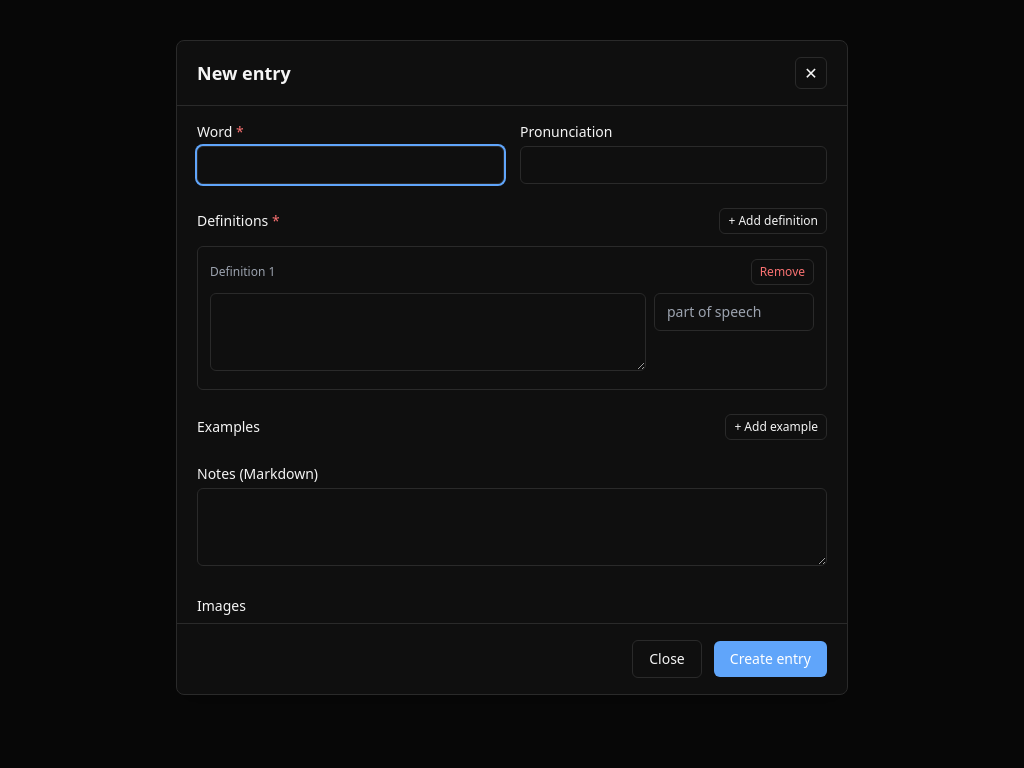
Scenario: EntryEditor › shows the duplicate message on a 409 response
Type "provoke" into the field labelled "Word *" at (350, 165), box 197,146 -> 504,184
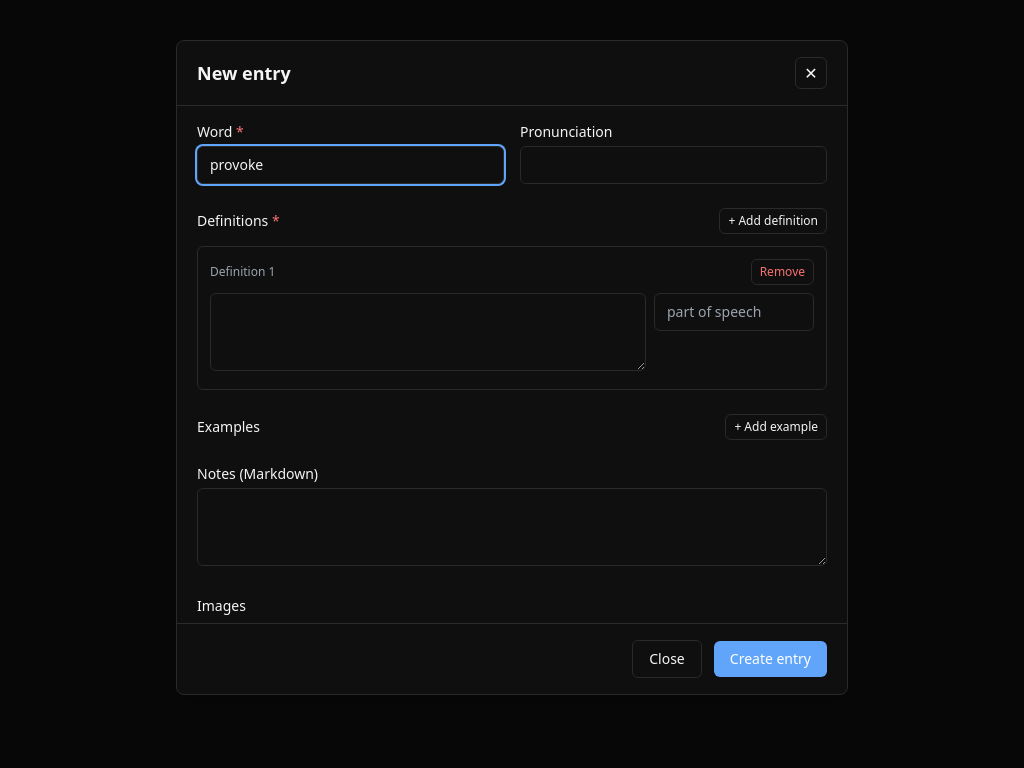
Type "to incite" into the text box named "definition 1 text" at (428, 332), box 210,293 -> 646,371
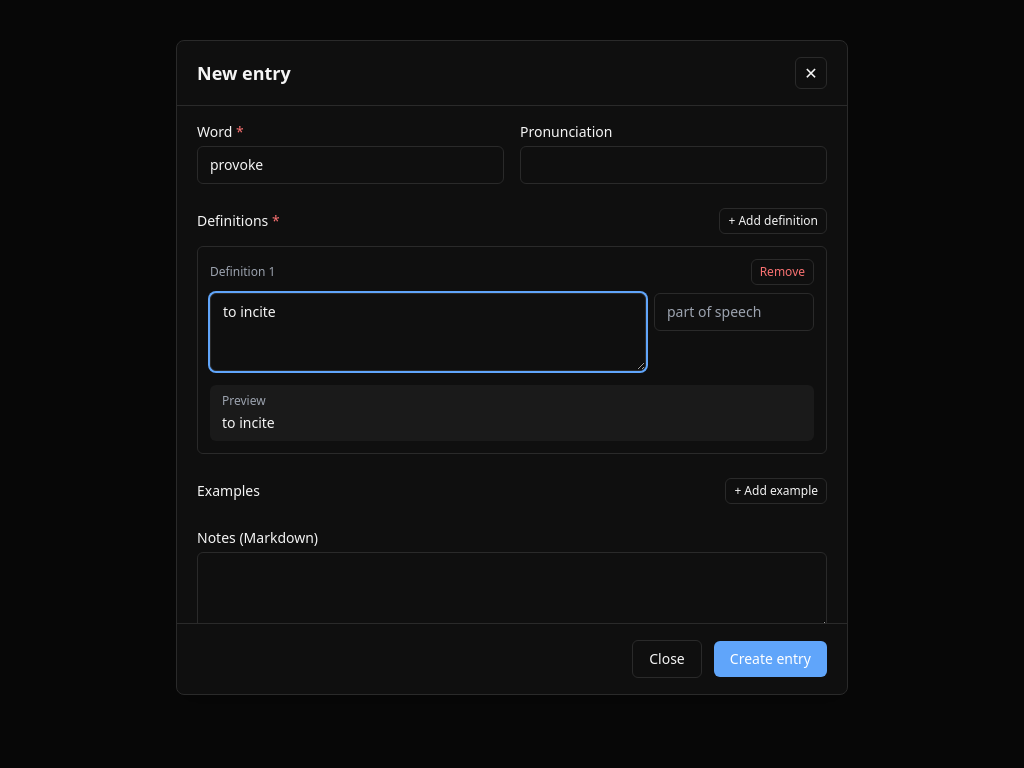
Click the button "Create entry" at (770, 659), box 714,641 -> 827,677
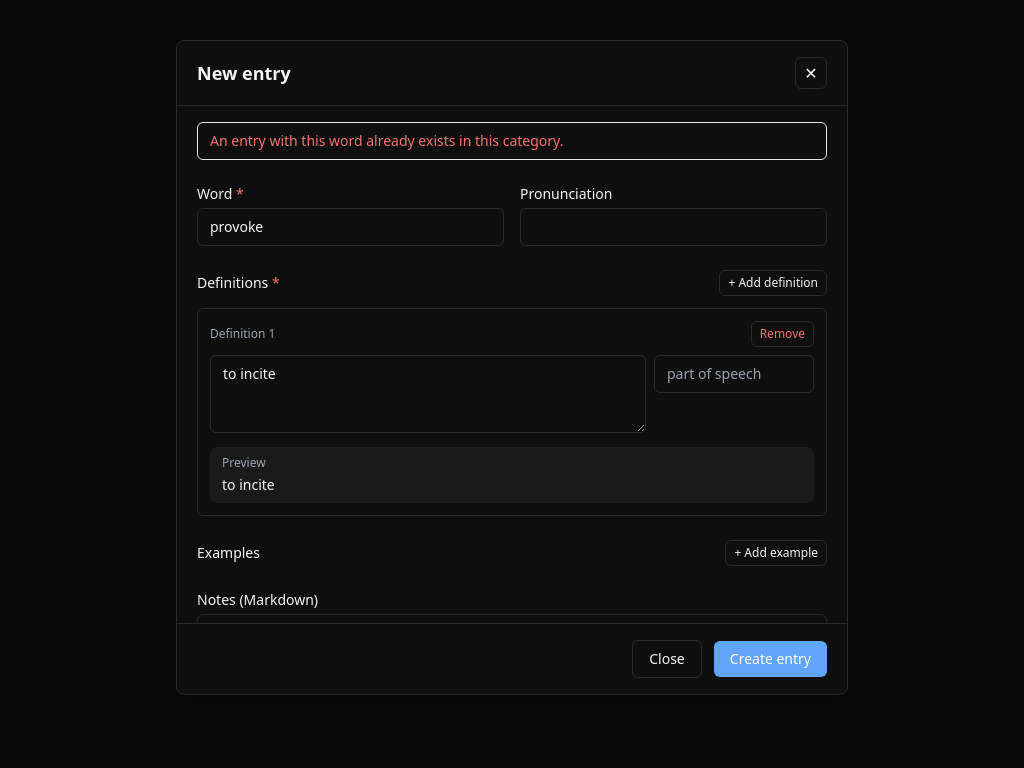
Expected: the text "An entry with this word already exists in this category." is shown, 197,122 -> 827,160
